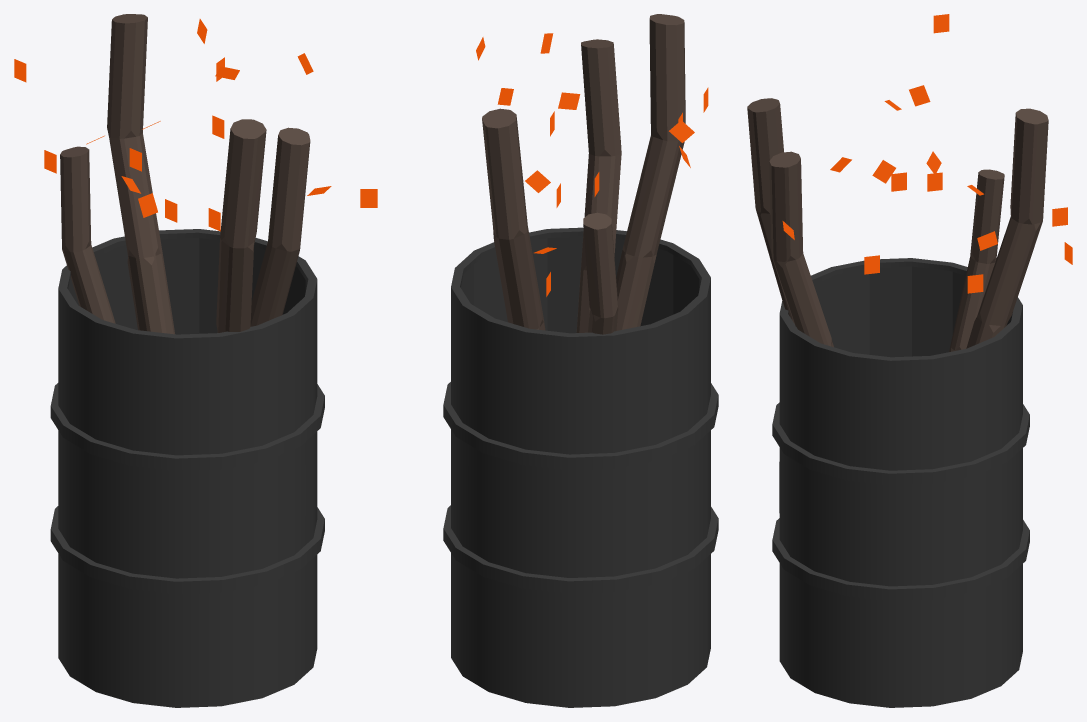
Rendered from 12 Fire_Pit_2.FBX.
3 renders of one model, left to right at view 1: azimuth 30°, elevation 25°; view 2: azimuth 150°, elevation 25°; view 3: azimuth 270°, elevation 25°, orthographic. The views are drawn at different scales.
Parts seen in each view (by area): view 1: Fire_Pit_2; view 2: Fire_Pit_2; view 3: Fire_Pit_2.
Part boxes in pixels (x1=…): Fire_Pit_2: x1=14, y1=14, x2=331, y2=707; Fire_Pit_2: x1=360, y1=14, x2=718, y2=707; Fire_Pit_2: x1=747, y1=14, x2=1072, y2=707.
Bounding box in the file's own units: 174 × 372 × 189.
